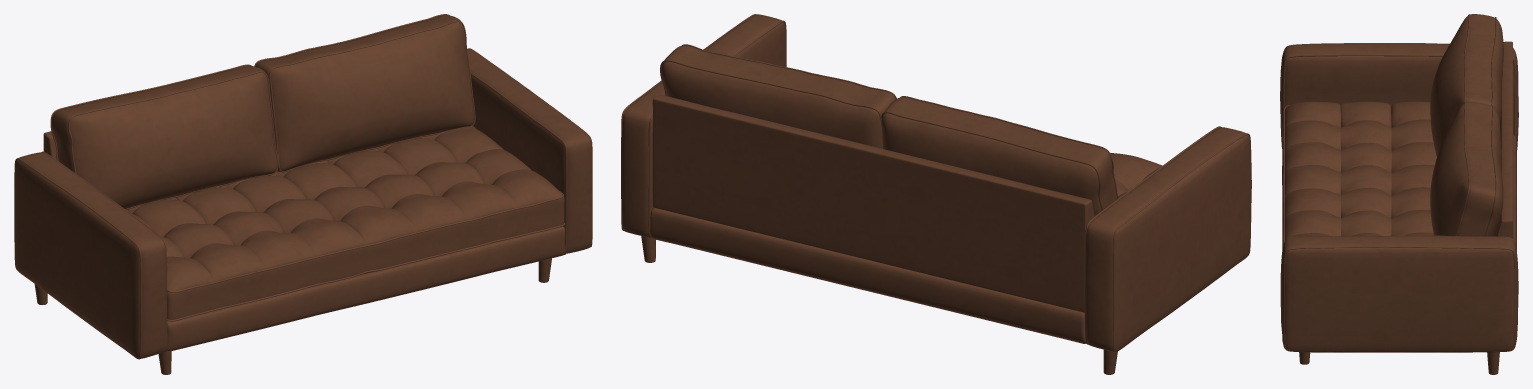
The model's file is sofa-1.glb.
3 renders of one model, left to right at view 1: azimuth 30°, elevation 25°; view 2: azimuth 150°, elevation 25°; view 3: azimuth 270°, elevation 25°, orthographic. The views are drawn at different scales.
Parts seen in each view (by area): view 1: polySurface6; view 2: polySurface6; view 3: polySurface6.
Boxes of the visible parts, bbox=[...] form: polySurface6: bbox=[14, 14, 592, 374]; polySurface6: bbox=[621, 14, 1251, 374]; polySurface6: bbox=[1280, 14, 1518, 374].
Bounding box in the file's own units: 2.05 × 0.8276 × 0.9965.
1 material, 1 textured.
